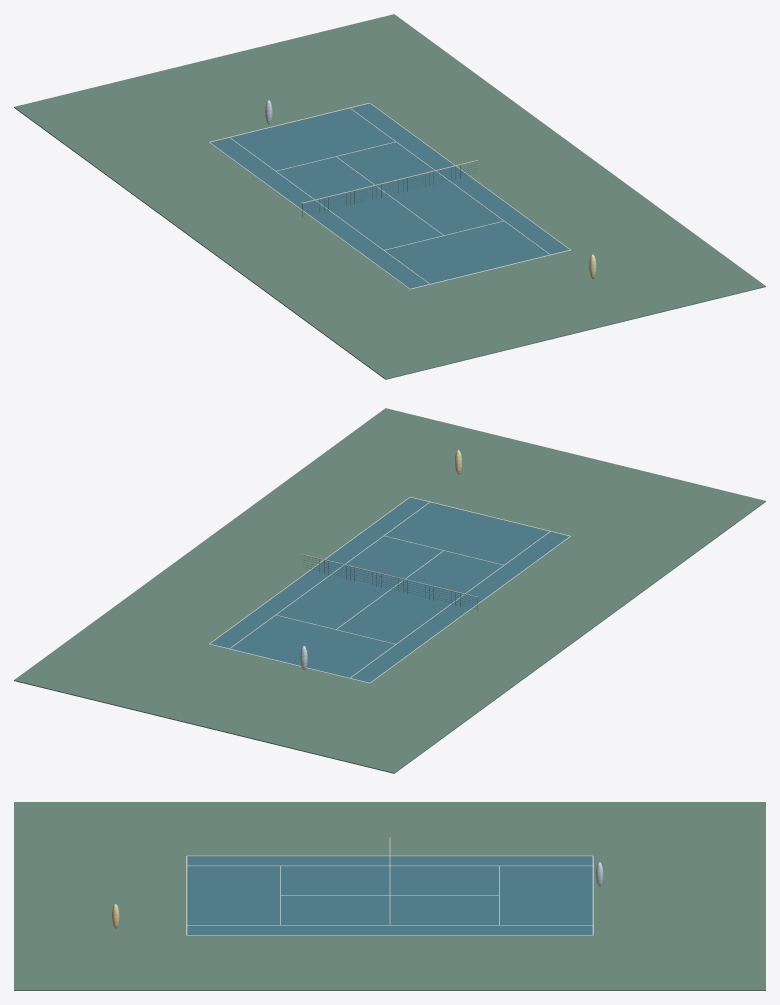
Rendered from tennis-lab-quan-gomez-point.glb.
3 renders of one model, top to bottom at view 1: azimuth 30°, elevation 25°; view 2: azimuth 150°, elevation 25°; view 3: azimuth 270°, elevation 25°, orthographic.
Parts seen in each view (by area): view 1: Baseline; view 2: Baseline; view 3: Baseline.
Part boxes in pixels (left/top/right/bottom): Baseline: left=14, top=14, right=765, bottom=379; Baseline: left=14, top=408, right=765, bottom=773; Baseline: left=14, top=802, right=765, bottom=990.
Size of what is drawn, in the model's own units: 26 by 1.68 by 44.
1 material, 1 textured.
